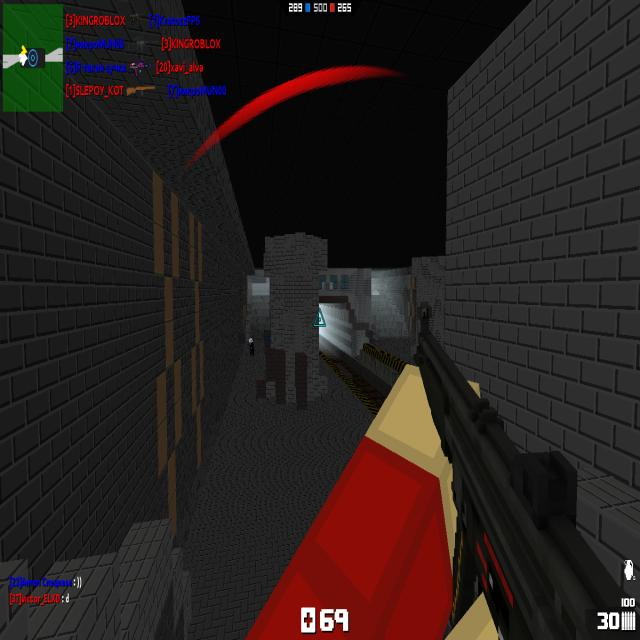enemy: (248, 337, 255, 357)
